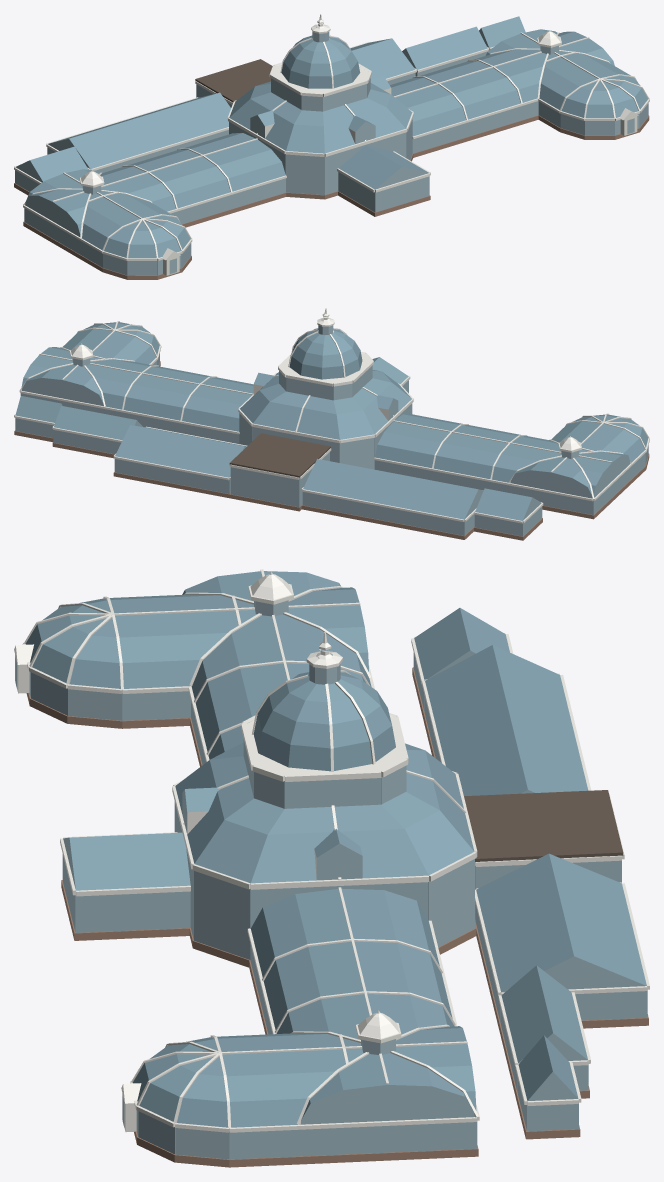
The model's file is conservatory-of-flowers-far.glb.
3 renders of one model, top to bottom at view 1: azimuth 30°, elevation 25°; view 2: azimuth 150°, elevation 25°; view 3: azimuth 270°, elevation 25°, orthographic. The views are drawn at different scales.
Parts seen in each view (by area): view 1: conservatory-of-flowers-0-glass, conservatory-of-flowers-0-glow, conservatory-of-flowers-0-frame, conservatory-of-flowers-0-stone, conservatory-of-flowers-0-roof; view 2: conservatory-of-flowers-0-glass, conservatory-of-flowers-0-glow, conservatory-of-flowers-0-frame, conservatory-of-flowers-0-stone, conservatory-of-flowers-0-roof; view 3: conservatory-of-flowers-0-glass, conservatory-of-flowers-0-glow, conservatory-of-flowers-0-frame, conservatory-of-flowers-0-roof, conservatory-of-flowers-0-stone.
Boxes of the visible parts, bbox=[...] form: conservatory-of-flowers-0-glass: bbox=[28, 16, 647, 258]; conservatory-of-flowers-0-glow: bbox=[15, 28, 648, 275]; conservatory-of-flowers-0-frame: bbox=[14, 14, 649, 275]; conservatory-of-flowers-0-stone: bbox=[14, 115, 649, 279]; conservatory-of-flowers-0-roof: bbox=[195, 59, 272, 102]; conservatory-of-flowers-0-glass: bbox=[15, 322, 648, 520]; conservatory-of-flowers-0-glow: bbox=[15, 325, 648, 536]; conservatory-of-flowers-0-frame: bbox=[14, 308, 649, 523]; conservatory-of-flowers-0-stone: bbox=[14, 361, 649, 540]; conservatory-of-flowers-0-roof: bbox=[229, 433, 330, 477]; conservatory-of-flowers-0-glass: bbox=[25, 571, 646, 1127]; conservatory-of-flowers-0-glow: bbox=[15, 600, 647, 1159]; conservatory-of-flowers-0-frame: bbox=[14, 569, 649, 1132]; conservatory-of-flowers-0-roof: bbox=[464, 790, 623, 861]; conservatory-of-flowers-0-stone: bbox=[26, 667, 648, 1167].
Bounding box in the file's own units: 75.31 × 18 × 38.4.
